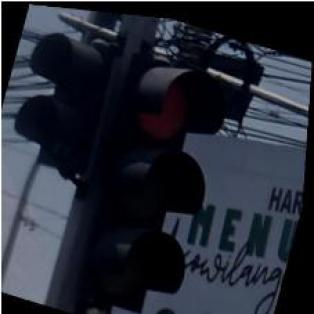Semaforo Rojo: (70, 41, 238, 314)
